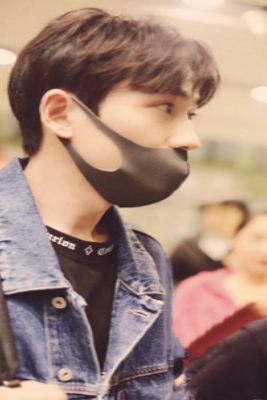mask_weared_incorrect: (69, 97, 200, 207)
